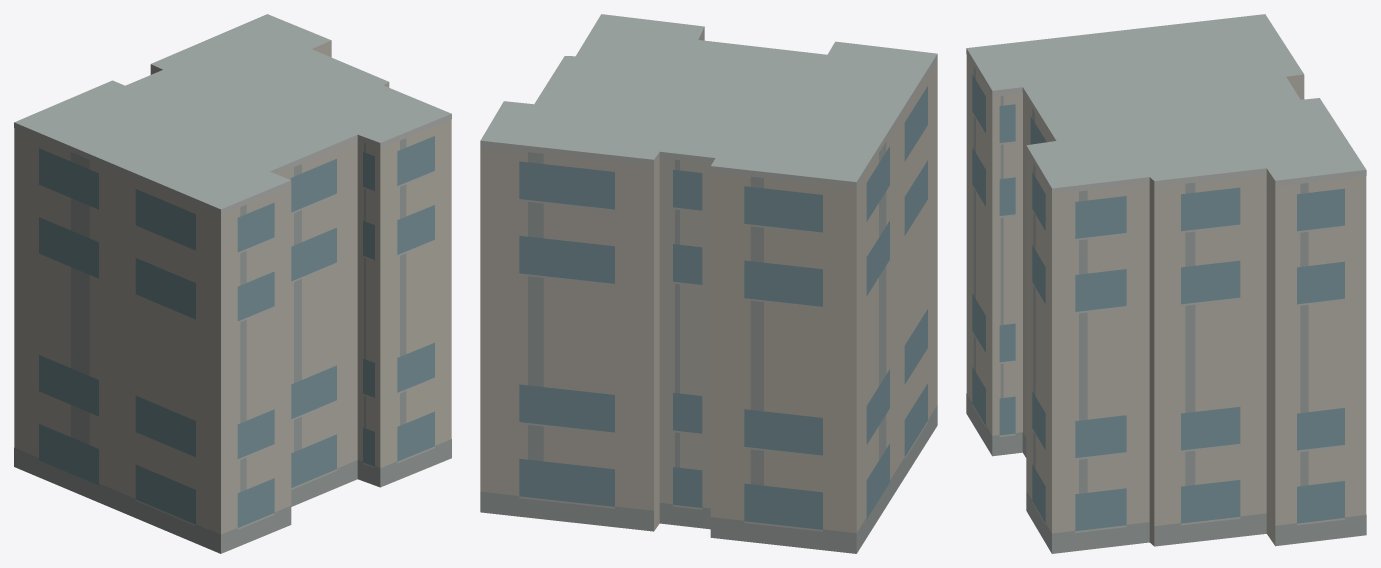
File: survey-upis-32704228.glb
3 views of the same model, side by side, from view 1: azimuth 30°, elevation 25°; view 2: azimuth 150°, elevation 25°; view 3: azimuth 270°, elevation 25° (orthographic). The views are drawn at different scales.
Parts seen in each view (by area): view 1: survey-upis-32704228.tmp; view 2: survey-upis-32704228.tmp; view 3: survey-upis-32704228.tmp.
Boxes of the visible parts, x1=… form: survey-upis-32704228.tmp: x1=14, y1=14, x2=451, y2=553; survey-upis-32704228.tmp: x1=480, y1=14, x2=937, y2=553; survey-upis-32704228.tmp: x1=966, y1=14, x2=1366, y2=553.
Bounding box in the file's own units: 14.96 × 14.6 × 14.5.
